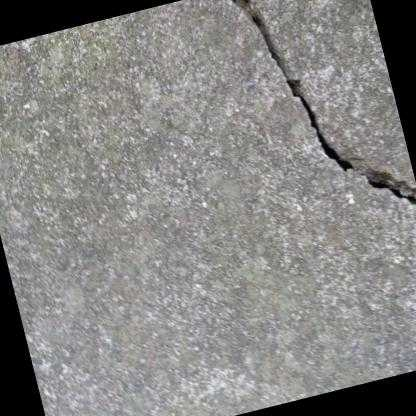crack: (231, 0, 416, 206)
